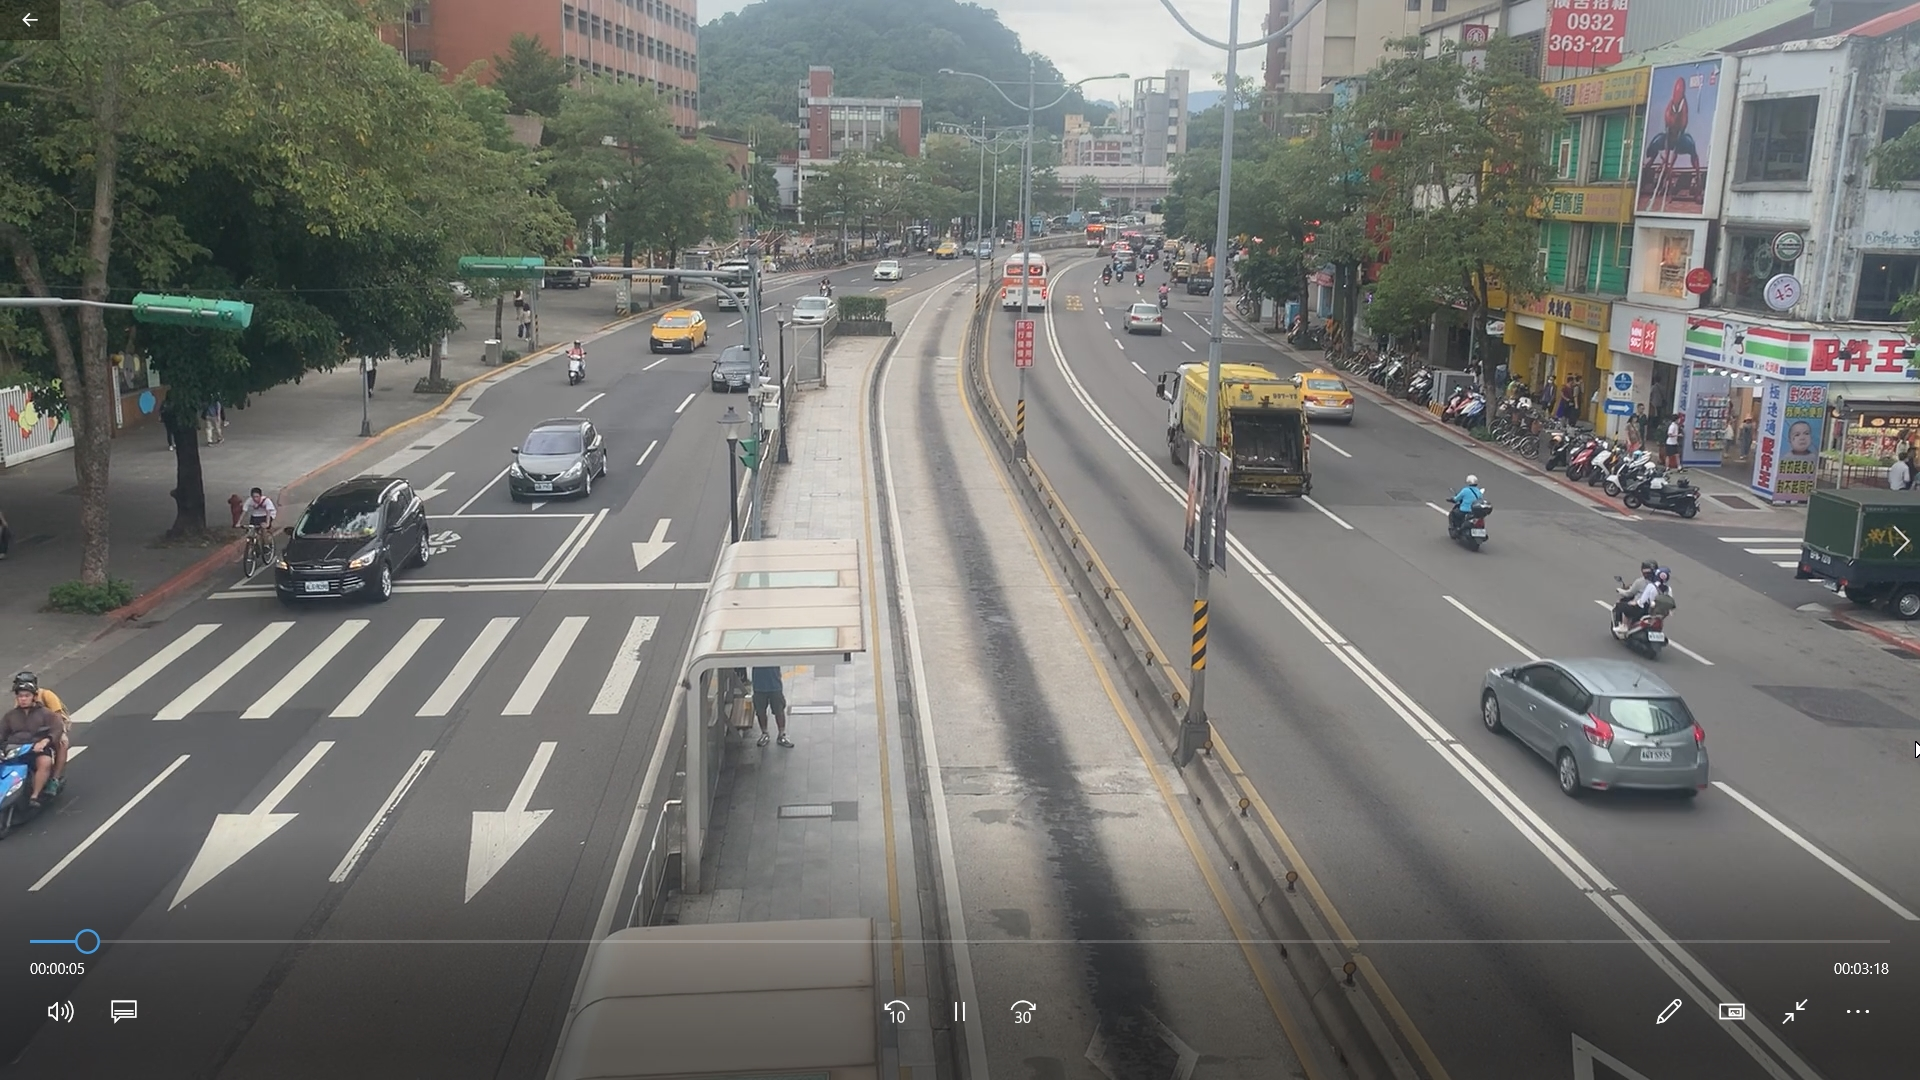Bus: (1159, 367, 1321, 506), (997, 247, 1052, 313)
Business Passenger Car: (1292, 365, 1352, 423), (654, 309, 698, 351), (934, 240, 963, 260)
Motorcycle: (3, 662, 67, 833), (1609, 553, 1677, 654), (1447, 473, 1491, 547), (564, 342, 591, 385)
Private Passenger Car: (1478, 659, 1712, 811), (276, 473, 431, 603), (502, 414, 603, 509), (709, 343, 774, 398), (787, 293, 832, 334), (1125, 298, 1164, 334), (872, 255, 905, 284)
